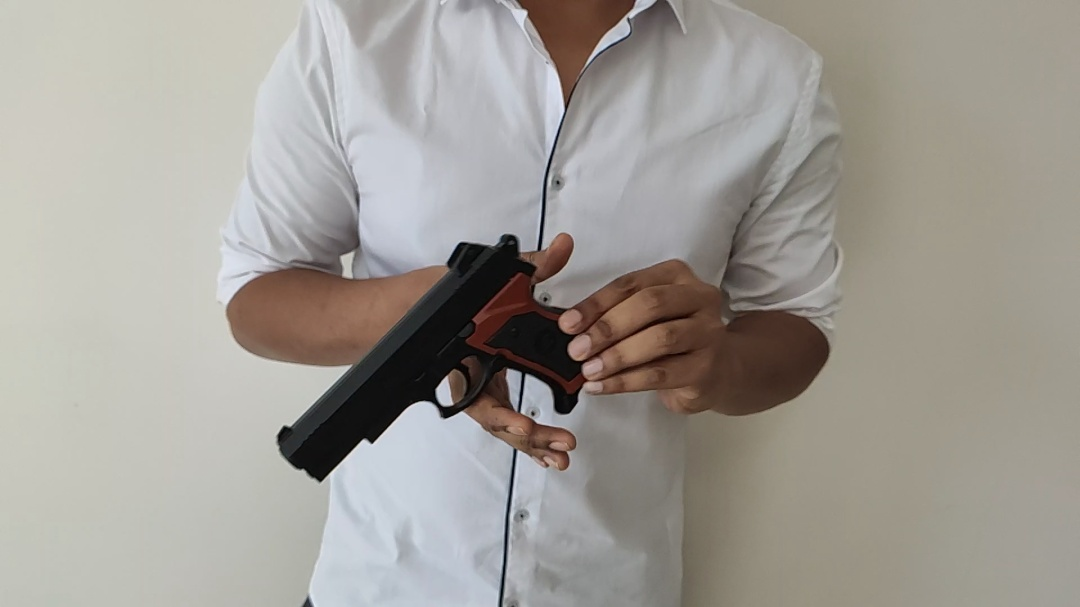gun: (386, 18, 640, 372)
